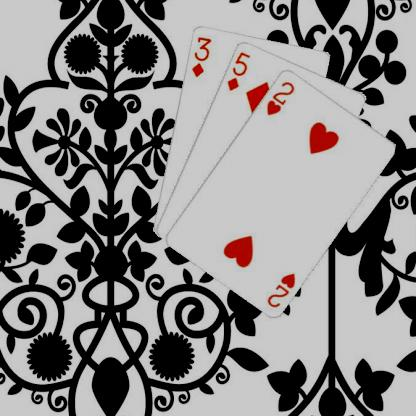2H: (264, 270, 297, 308), (264, 78, 296, 116)
3D: (189, 34, 213, 78)
5D: (224, 49, 251, 92)
